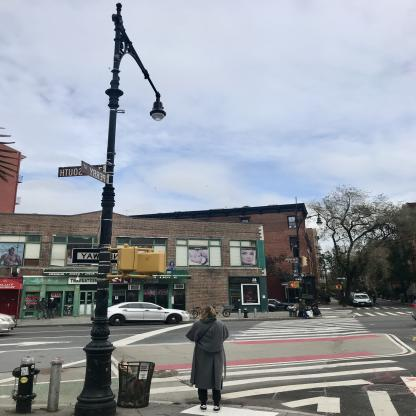Streetlights 1: (21, 2, 217, 415)
